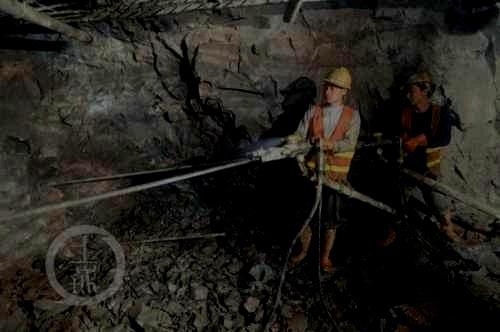helmet: (405, 70, 437, 108), (323, 66, 352, 104)
